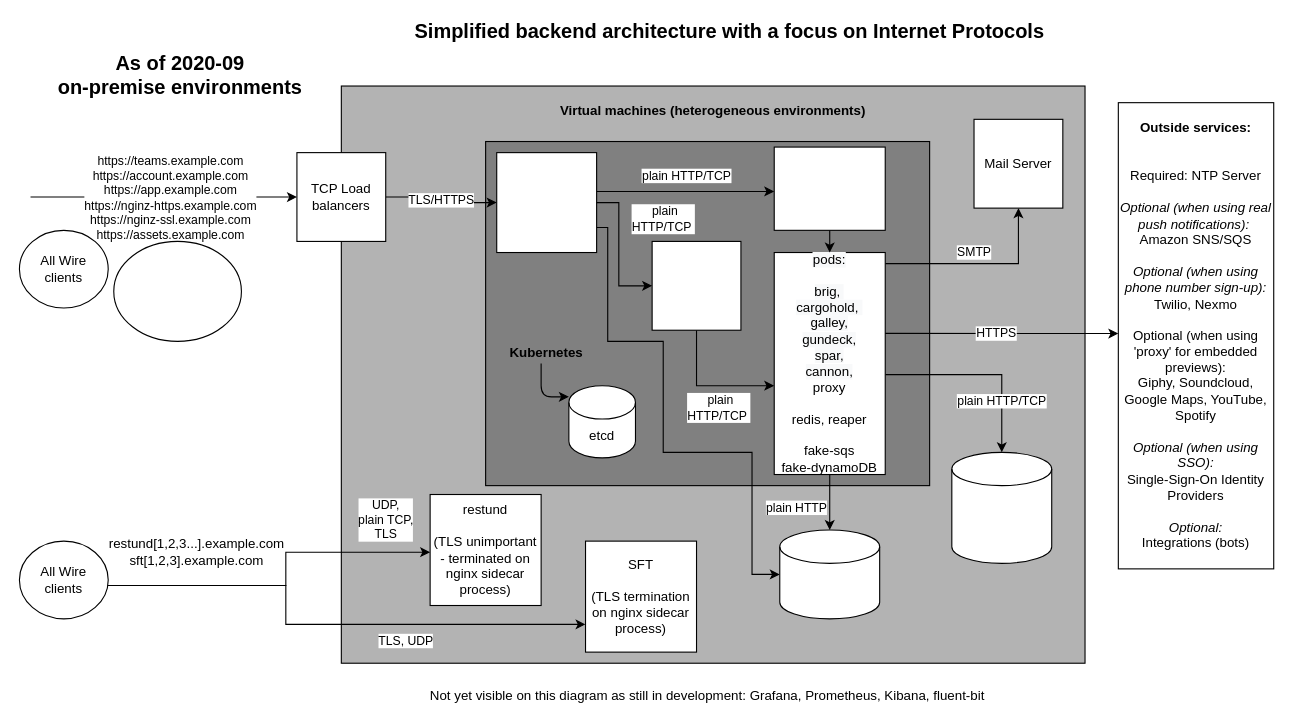
The diagram is 1293 pixels wide and 727 high, and some of its shapes have lost their labels. Each missing label, with the centre of its shape:
"cassandra, elasticsearch" goes at (x=1001, y=507).
"Integrations (bots) Single-Sign-On Identity Providers" goes at (x=177, y=290).
"minio/S3-compatible" goes at (x=829, y=574).
"pod: nginx-ingress (TLS termination)" goes at (x=546, y=202).
"pod: nginz" goes at (x=696, y=285).
"pods: webapp account-pages team-settings" goes at (x=829, y=188).
